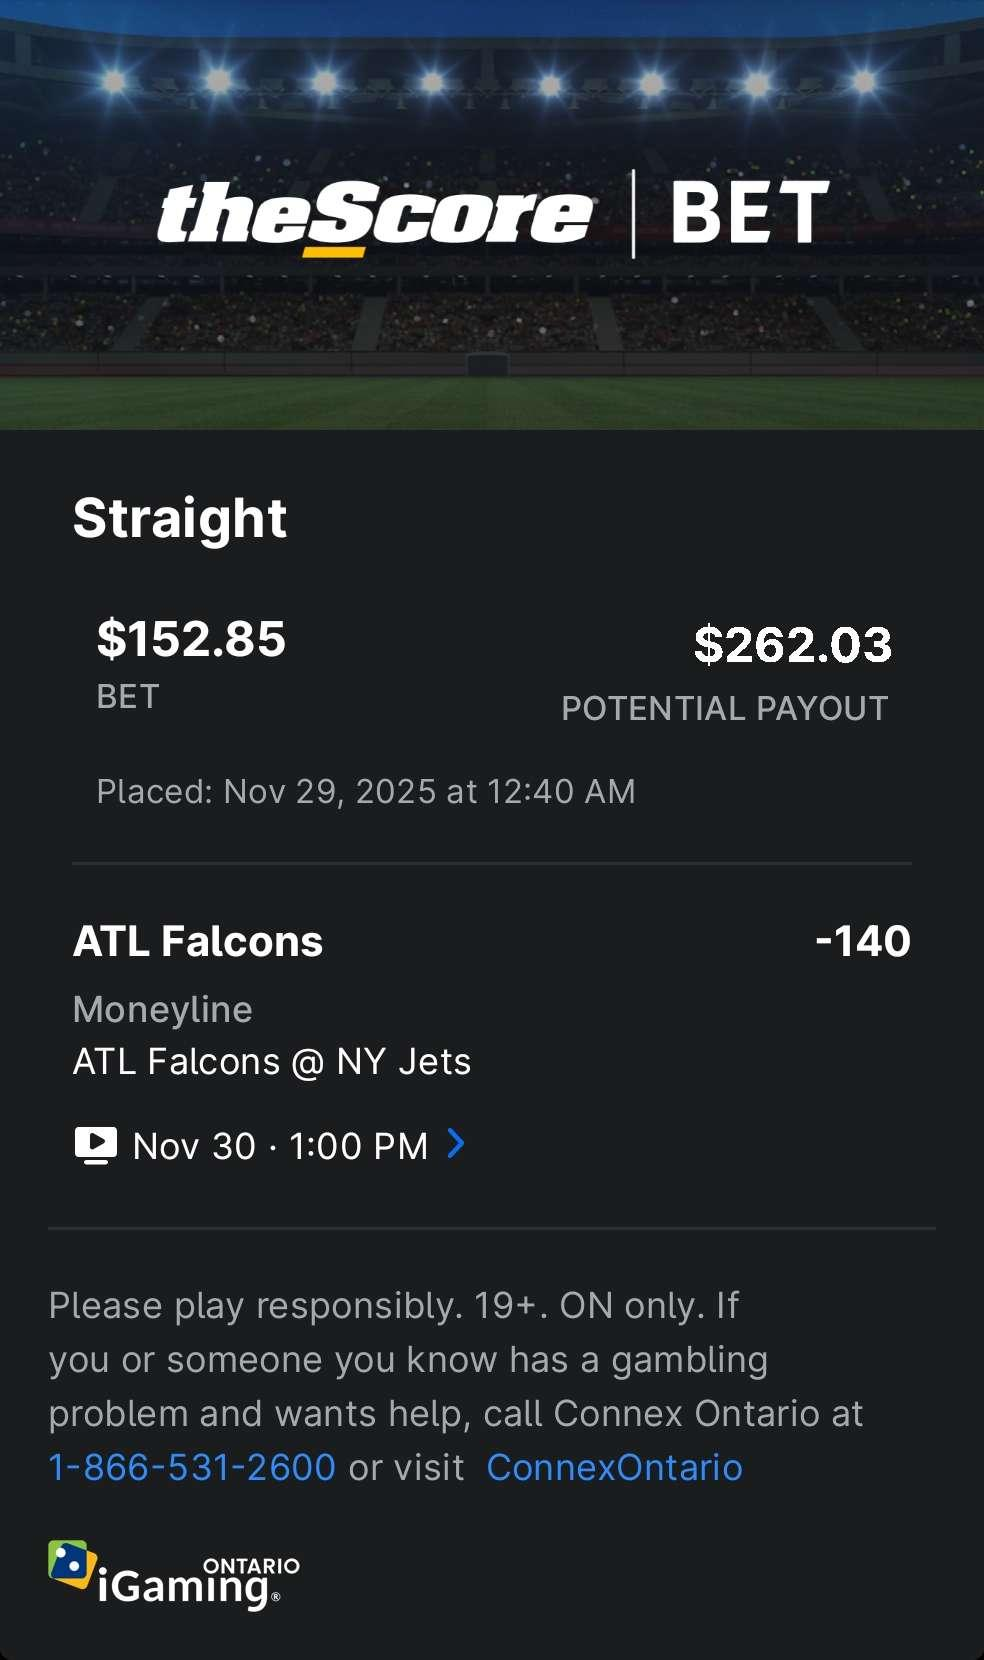game: (62, 1036, 478, 1094)
odds: (808, 918, 920, 964)
payout: (686, 614, 900, 674)
wager: (93, 610, 294, 674)
